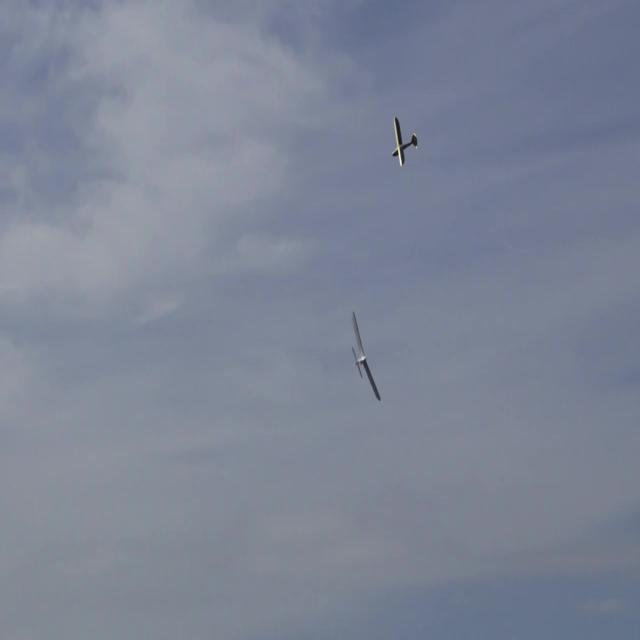iha: (391, 115, 419, 167), (350, 342, 381, 370)
